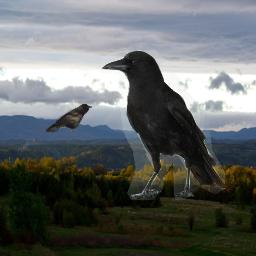Crow: (100, 50, 226, 200), (46, 103, 93, 132)
